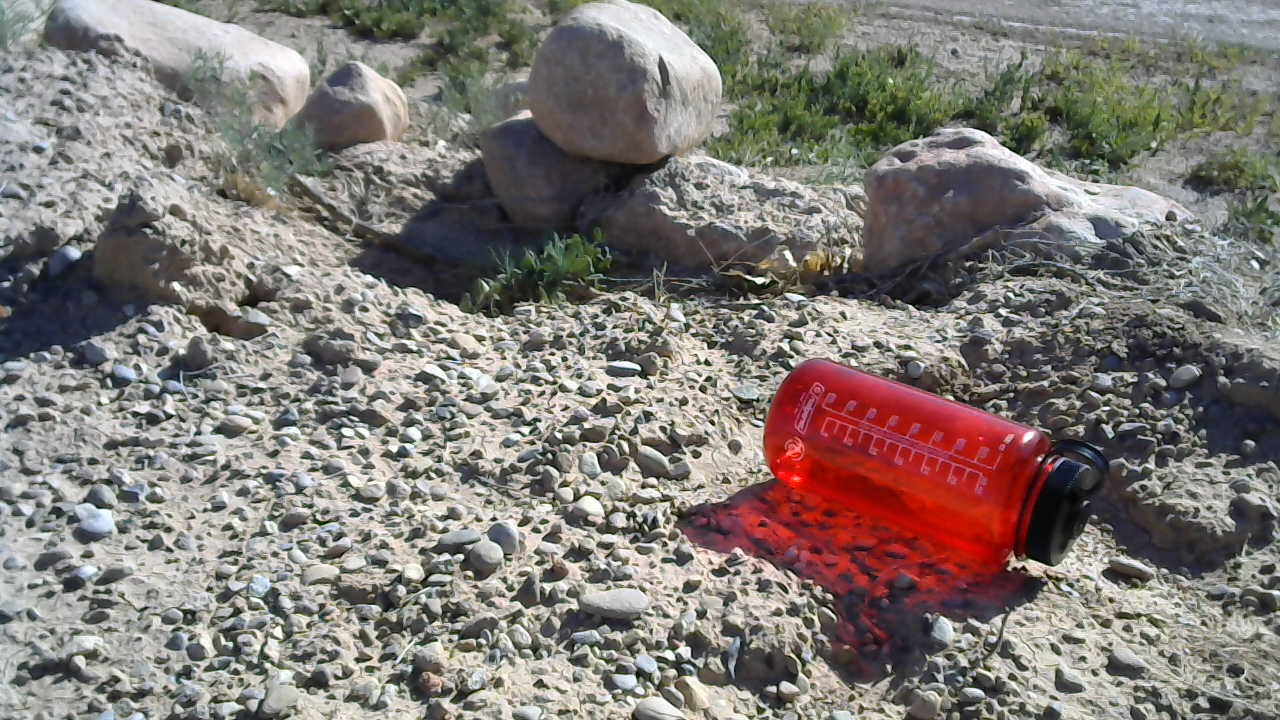bottle: (760, 354, 1102, 573)
